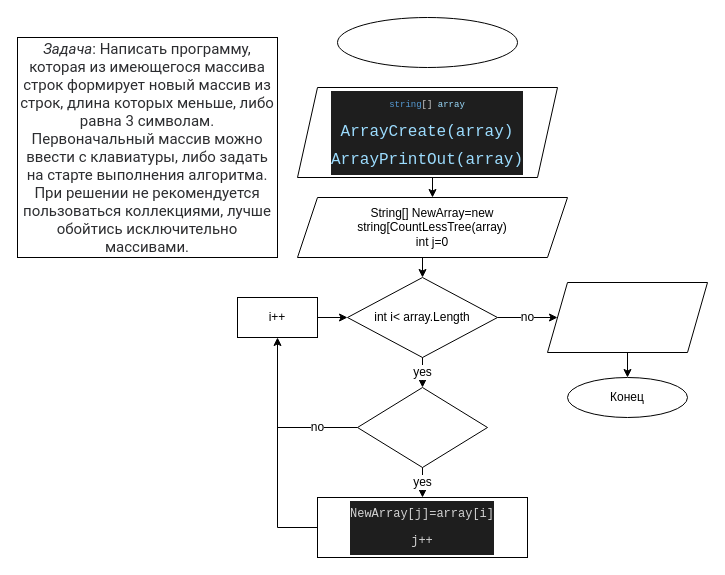
This 725x575 diagram has some shape labels left out. The centre of each missing label's shape, as x and y in pixels:
"array[i].Length<=3" belongs at [422,427].
"ArrayPrintOut(NewArray)" belongs at [627,317].
"Начало" belongs at [427,42].
